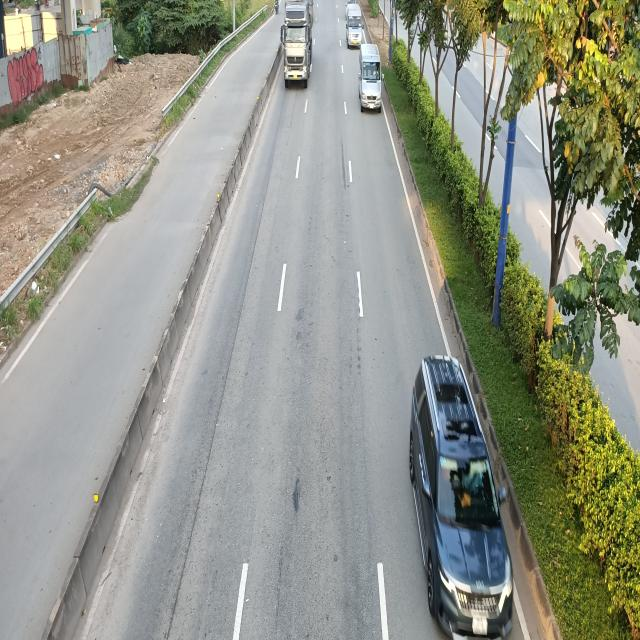car: (406, 352, 517, 636)
container: (279, 0, 313, 88)
van: (357, 44, 384, 112), (346, 3, 364, 50)
